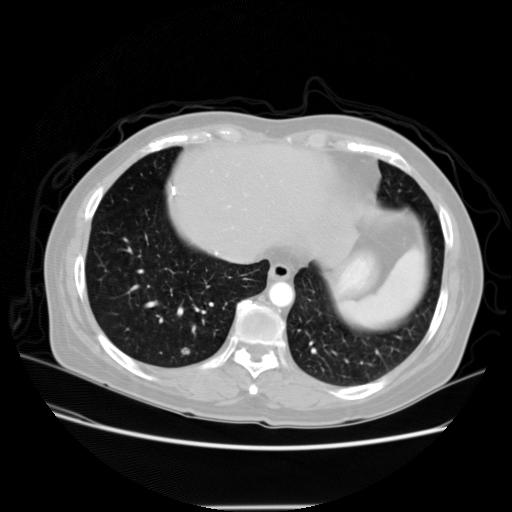nodule: (179, 345, 192, 358)
